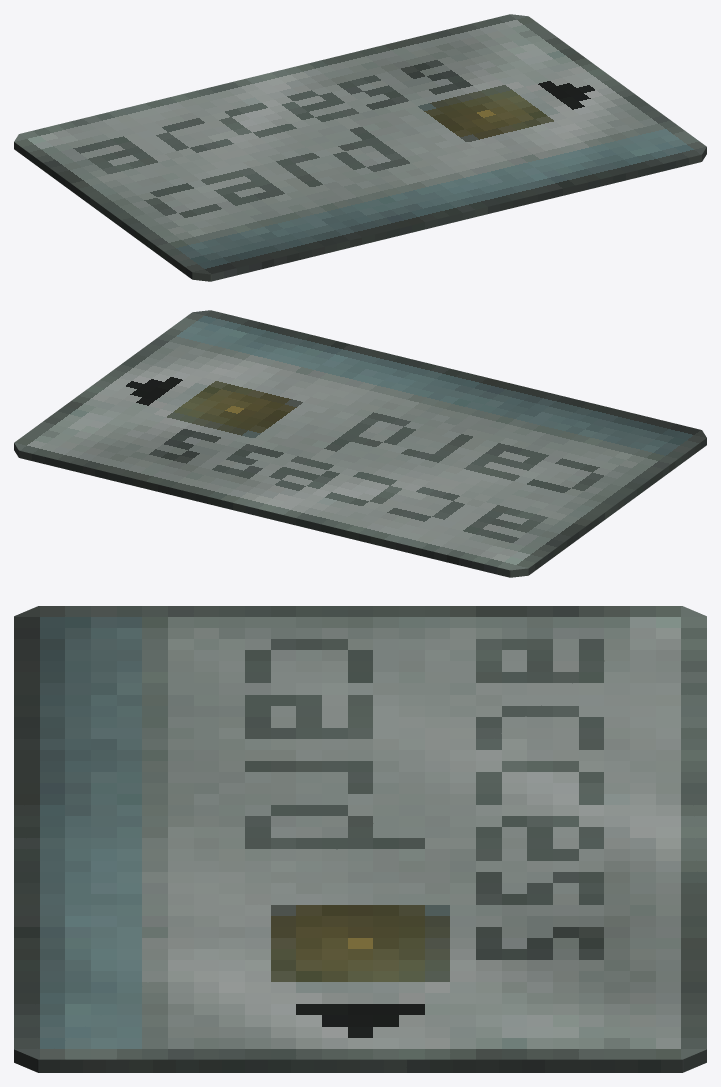
File: keycard_1.glb
3 views of the same model, one above another, from view 1: azimuth 30°, elevation 25°; view 2: azimuth 150°, elevation 25°; view 3: azimuth 270°, elevation 25° (orthographic). The views are drawn at different scales.
Parts seen in each view (by area): view 1: keycard_1; view 2: keycard_1; view 3: keycard_1.
Part boxes in pixels (x1=…): keycard_1: x1=14, y1=14, x2=706, y2=281; keycard_1: x1=14, y1=310, x2=706, y2=577; keycard_1: x1=14, y1=606, x2=706, y2=1072.
Size of the model in its own units: 0.132 by 0.0018 by 0.0852.
Materials: 1 (1 with a texture image).
